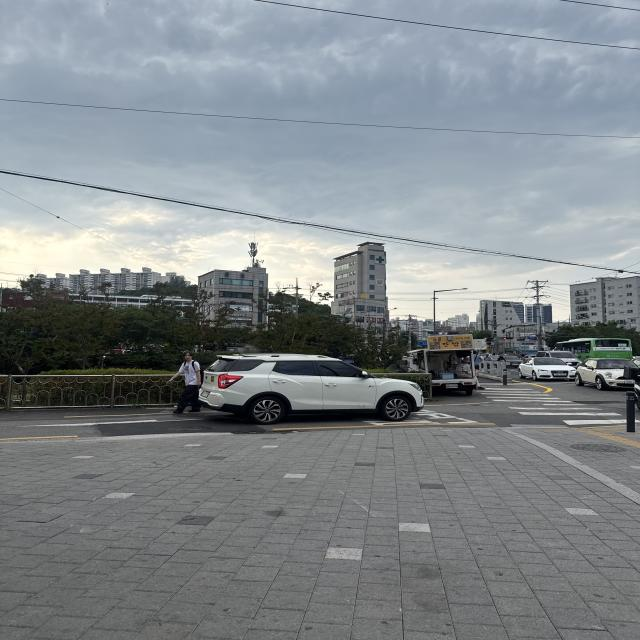car: (195, 337, 443, 433)
